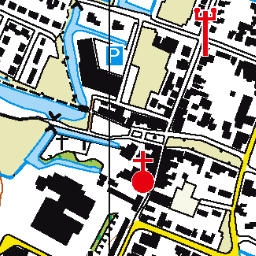church: (129, 150, 158, 195)
